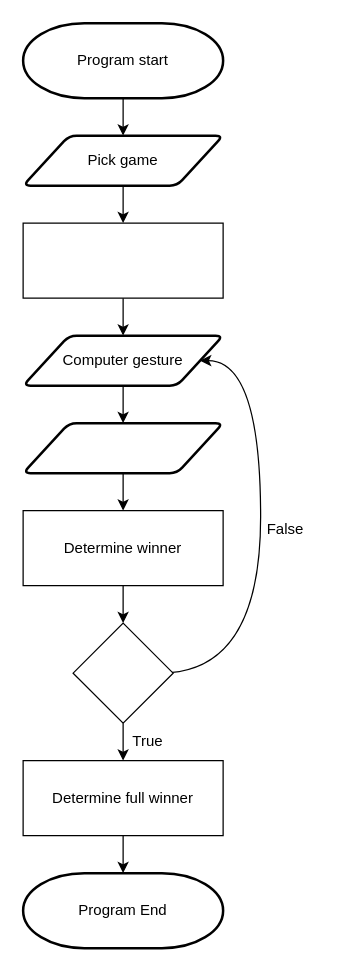
The diagram is 344 pixels wide and 970 high, and some of its shapes have lost their labels. The centre of each missing label's shape, as x and y in pixels:
Determine game: point 122,260
Human gesture: point 122,447
Player or computer wins above 2?: point 122,672
